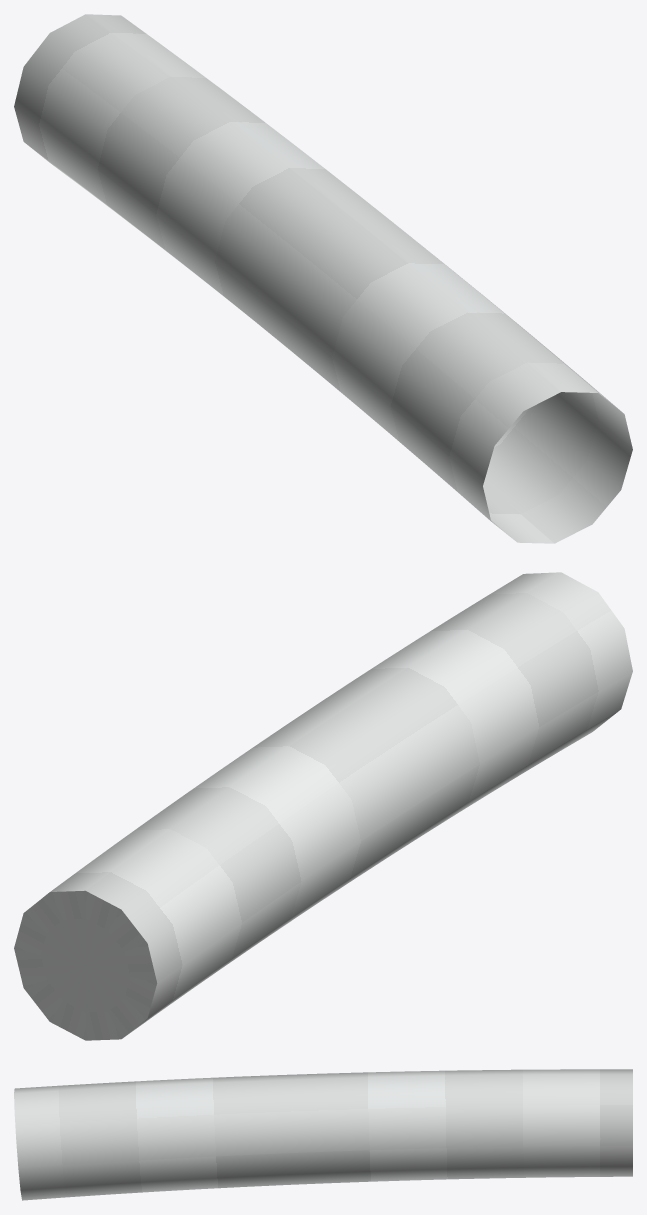
Rendered from luminairearm_truss15ft_c10.obj.
The picture shows the model from 3 angles, top to bottom: view 1: azimuth 30°, elevation 25°; view 2: azimuth 150°, elevation 25°; view 3: azimuth 270°, elevation 25°; orthographic projection. The views are drawn at different scales.
Parts seen in each view (by area): view 1: luminairearm_truss15ft_c10; view 2: luminairearm_truss15ft_c10; view 3: luminairearm_truss15ft_c10.
Part boxes in pixels (x1=…): luminairearm_truss15ft_c10: x1=14, y1=14, x2=632, y2=543; luminairearm_truss15ft_c10: x1=14, y1=572, x2=632, y2=1040; luminairearm_truss15ft_c10: x1=14, y1=1069, x2=632, y2=1200.
Bounding box in the file's own units: 0.1833 × 0.2175 × 1.01.
